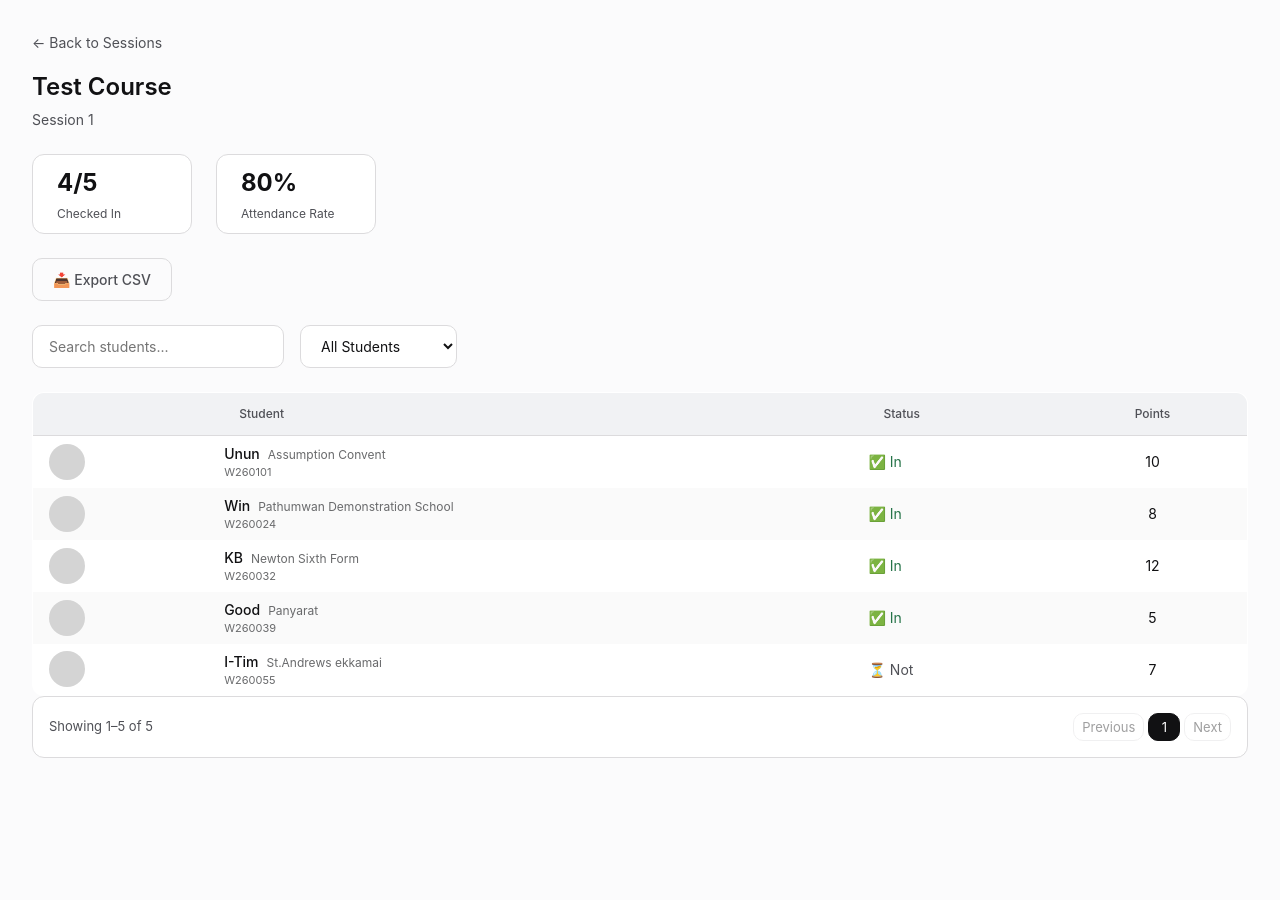
Test: CheckinDetail search › filters students by nickname
In the field with placeholder "Search students...": (158, 346) [32,325,284,368], type "Win"
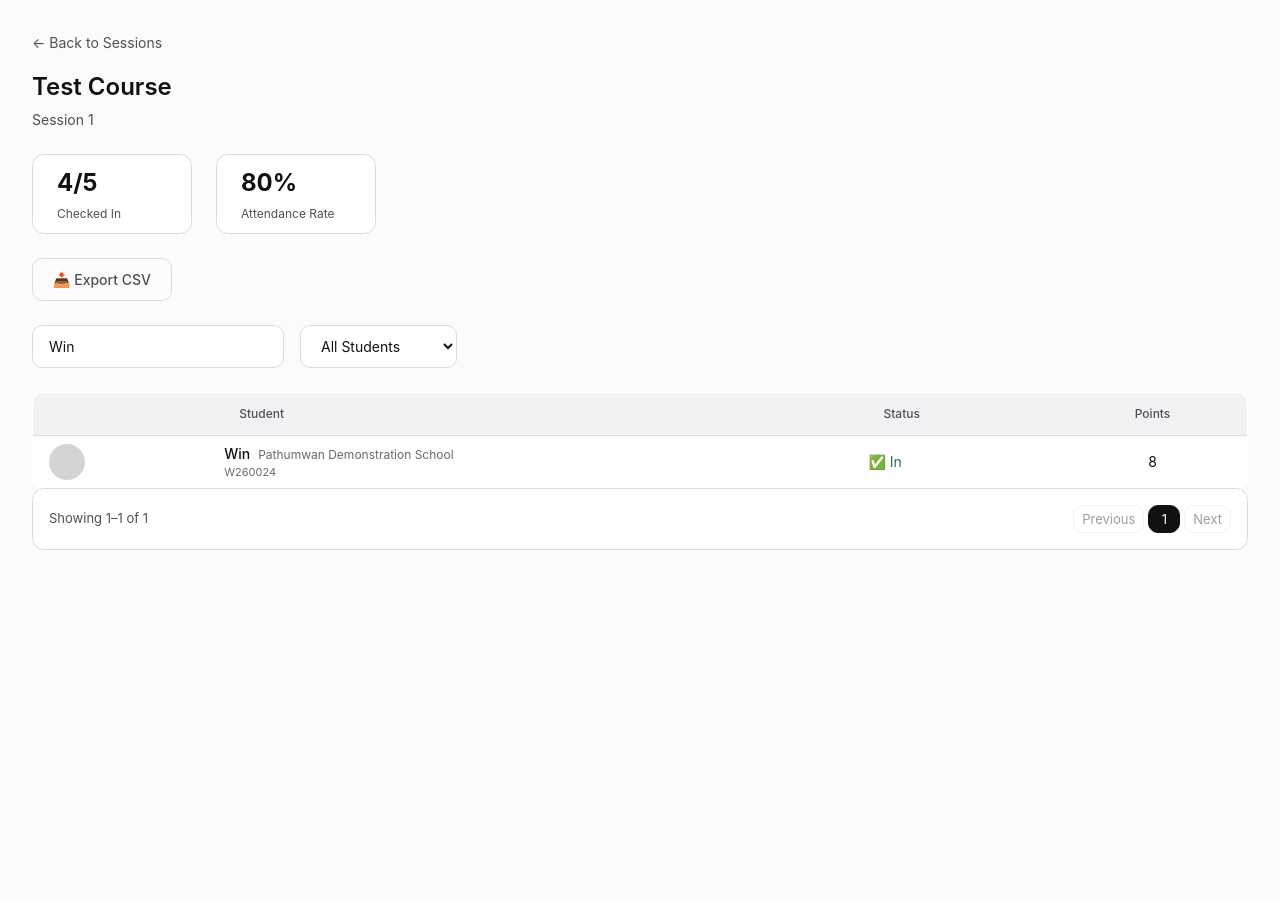
Result: the text "Unun" is gone
Result: the text "KB" is gone
Result: the text "Good" is gone
